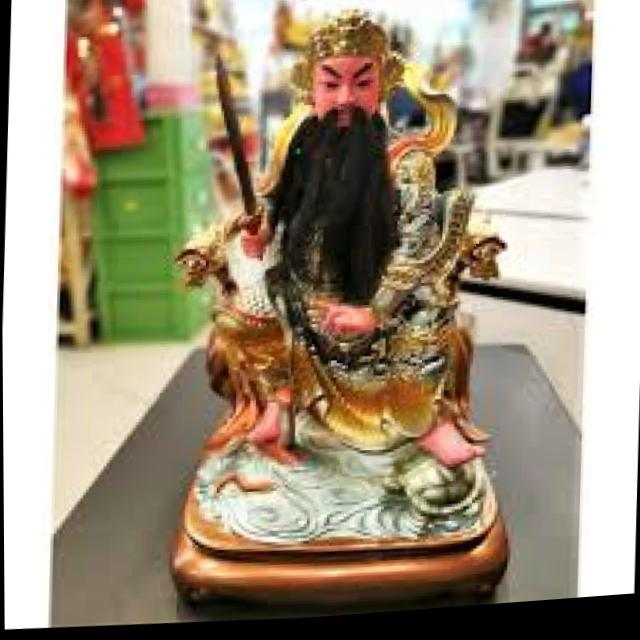Xuan wu: (178, 0, 502, 523)
